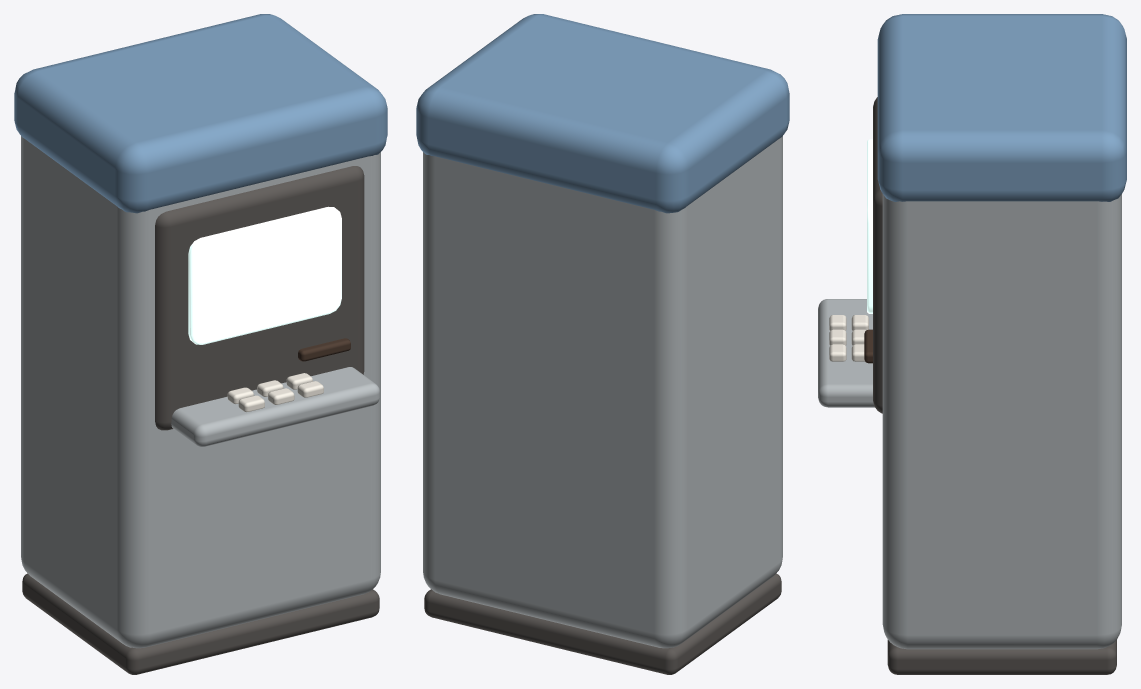
Rendered from cash_machine.glb.
The picture shows the model from 3 angles, left to right: view 1: azimuth 30°, elevation 25°; view 2: azimuth 150°, elevation 25°; view 3: azimuth 270°, elevation 25°; orthographic projection. The views are drawn at different scales.
Visible parts, largest first — view 1: cash_machine_mesh; view 2: cash_machine_mesh; view 3: cash_machine_mesh.
Boxes of the visible parts, x1,y1,x2,y2 form: cash_machine_mesh: (14, 14, 387, 674); cash_machine_mesh: (416, 14, 789, 674); cash_machine_mesh: (818, 14, 1126, 674).
Size of the model in its own units: 0.64 by 1.2 by 0.62.
